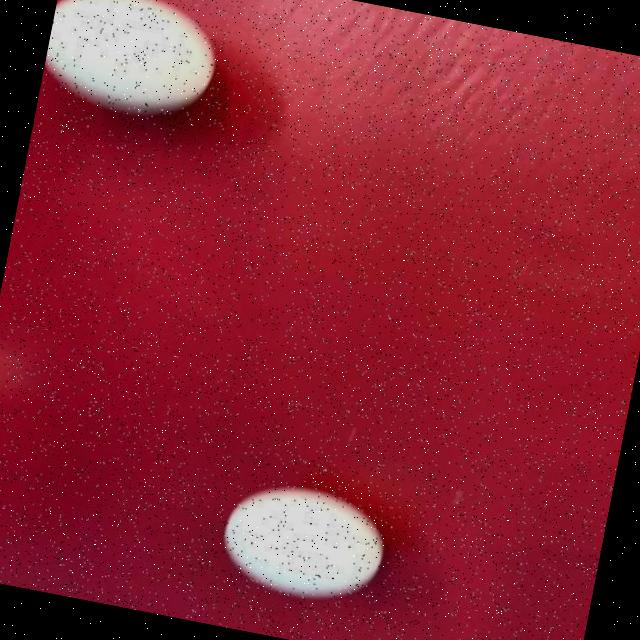ping-pong-ball: (175, 460, 413, 618), (36, 0, 257, 143)
